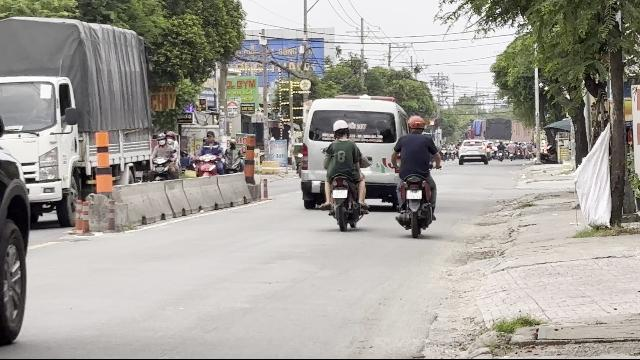helmet: (406, 114, 426, 134), (330, 120, 350, 138)
licenseplate: (332, 190, 348, 198), (406, 190, 422, 198)
motorcyclist: (388, 114, 440, 238), (320, 118, 372, 230)
